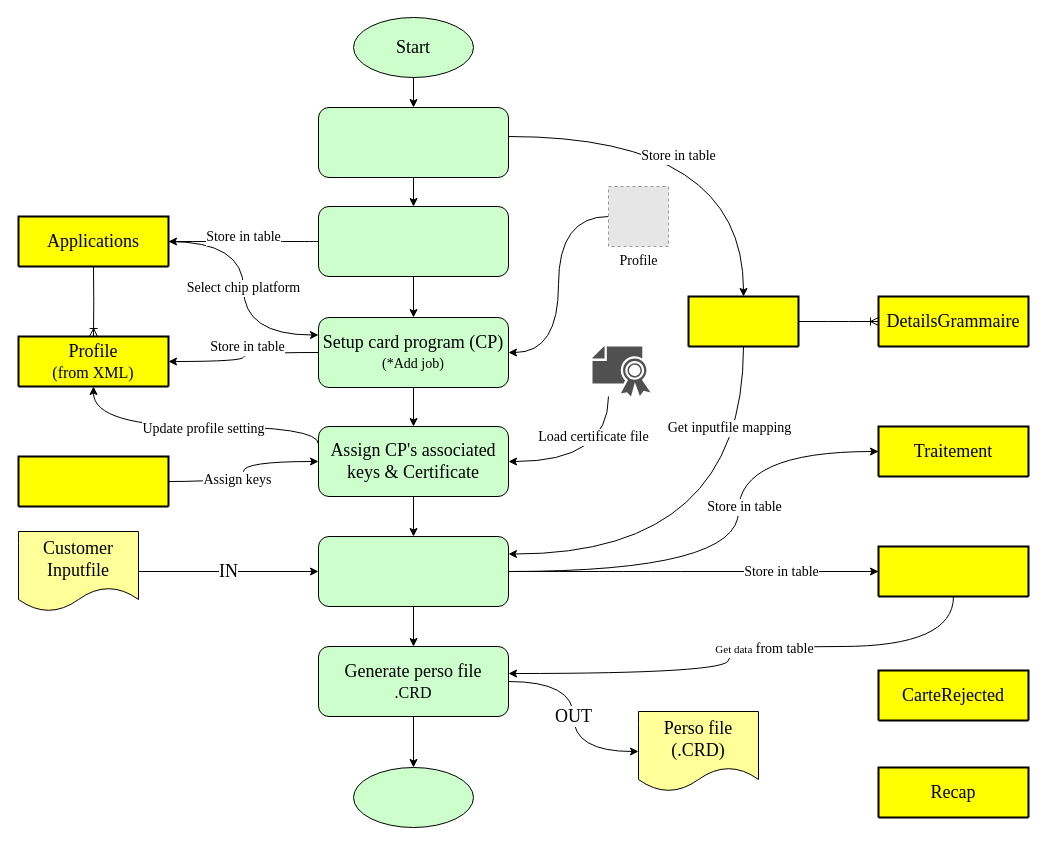
The diagram is 1046 pixels wide and 845 high, and some of its shapes have lost their labels. Grey dashed boxes stand in for pictures. Each missing label, with the centre of its shape:
"Add chip platform (* Application Name )" belongs at [413,241].
"Create inputfile mapping structure" belongs at [413,142].
"DESKeys" belongs at [93,481].
"Detenteur" belongs at [953,571].
"End" belongs at [413,797].
"Grammaire" belongs at [743,321].
"Upload input file" belongs at [413,571].
